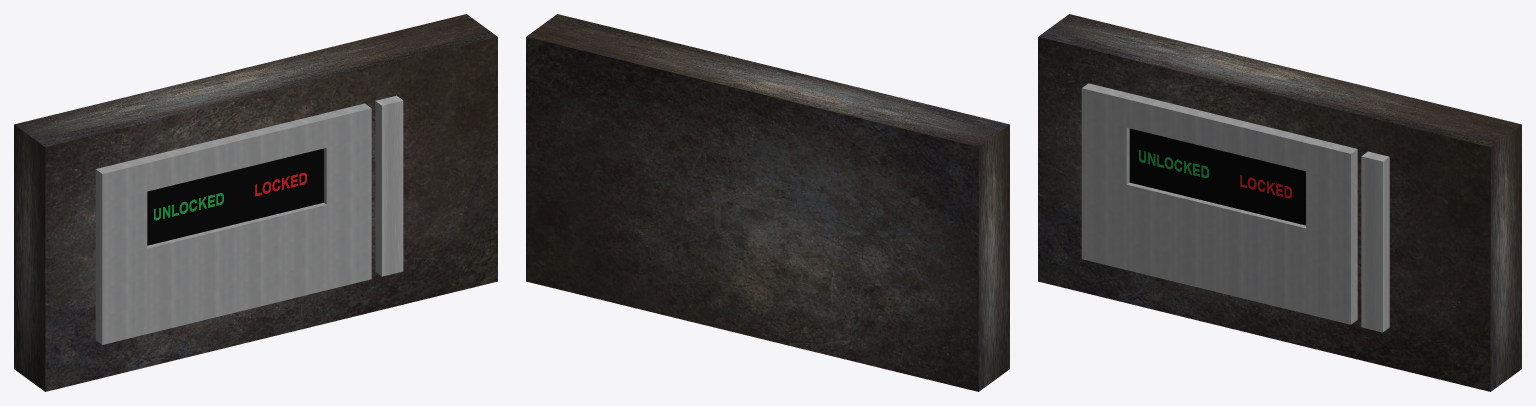
File: doorLock.obj
3 views of the same model, side by side, from view 1: azimuth 30°, elevation 25°; view 2: azimuth 150°, elevation 25°; view 3: azimuth 330°, elevation 25° (orthographic).
Parts seen in each view (by area): view 1: lockParent, lockParent lock1, lockParent screen, lockParent lock2; view 2: lockParent; view 3: lockParent, lockParent lock1, lockParent screen, lockParent lock2.
Part boxes in pixels (bbox=[...]): lockParent: bbox=[14, 14, 497, 391]; lockParent lock1: bbox=[95, 103, 371, 344]; lockParent screen: bbox=[147, 148, 323, 245]; lockParent lock2: bbox=[375, 95, 403, 276]; lockParent: bbox=[526, 14, 1009, 391]; lockParent: bbox=[1038, 14, 1521, 391]; lockParent lock1: bbox=[1081, 83, 1357, 324]; lockParent screen: bbox=[1129, 128, 1305, 225]; lockParent lock2: bbox=[1361, 151, 1389, 332].
Bounding box in the file's own units: 6.66 × 3.44 × 0.9665.
4 materials, 4 textured.
